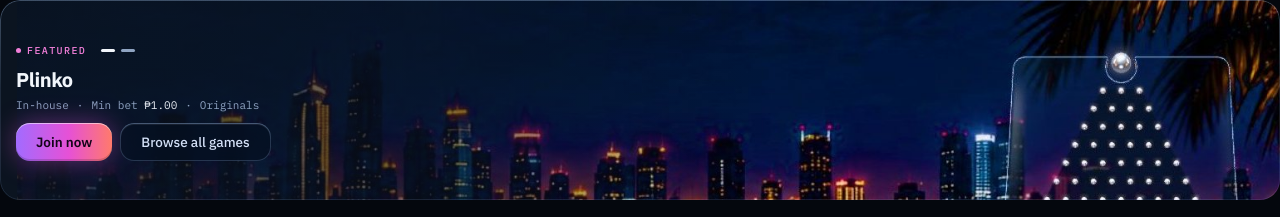
Test: HeroBanner › shows the title an indicator names and hides the others from assistive technology
The image size is (1280, 217).
Click the button named "Show Plinko Billiards".
click(128, 51)  # box [118,39,138,63]
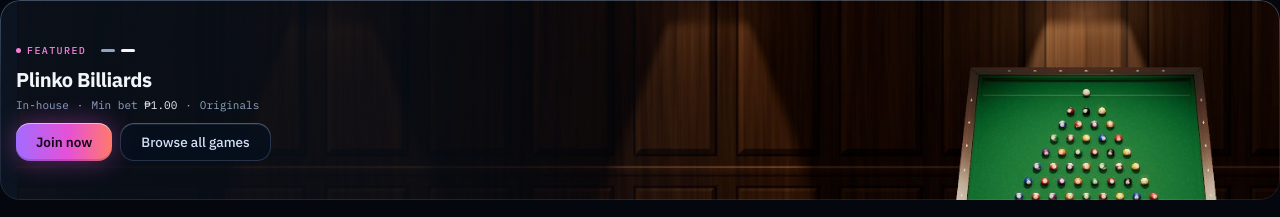
Expected: the heading reads "Plinko Billiards", [16,66,152,93]
